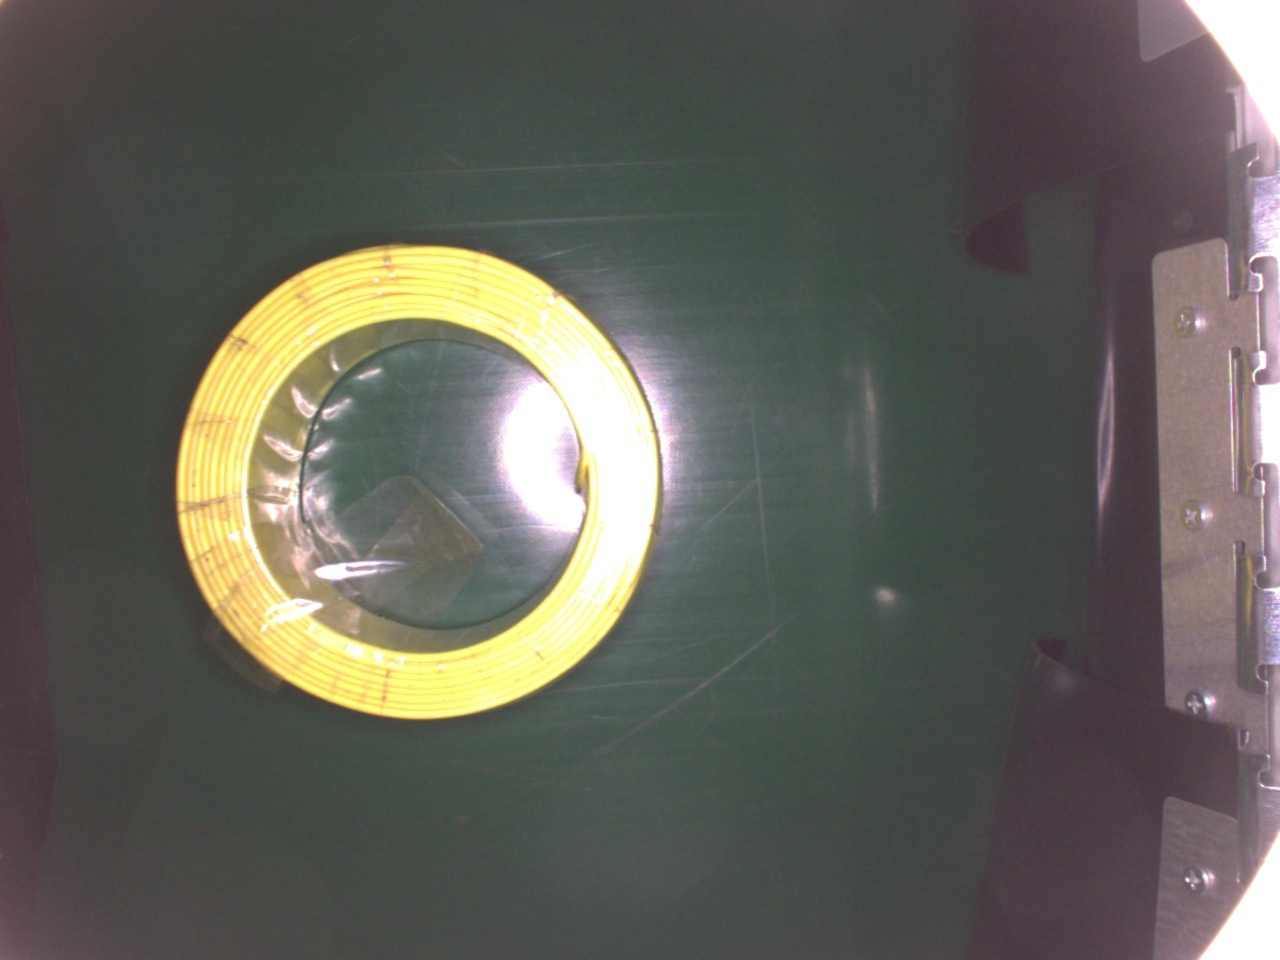yellow: (173, 240, 664, 721)
